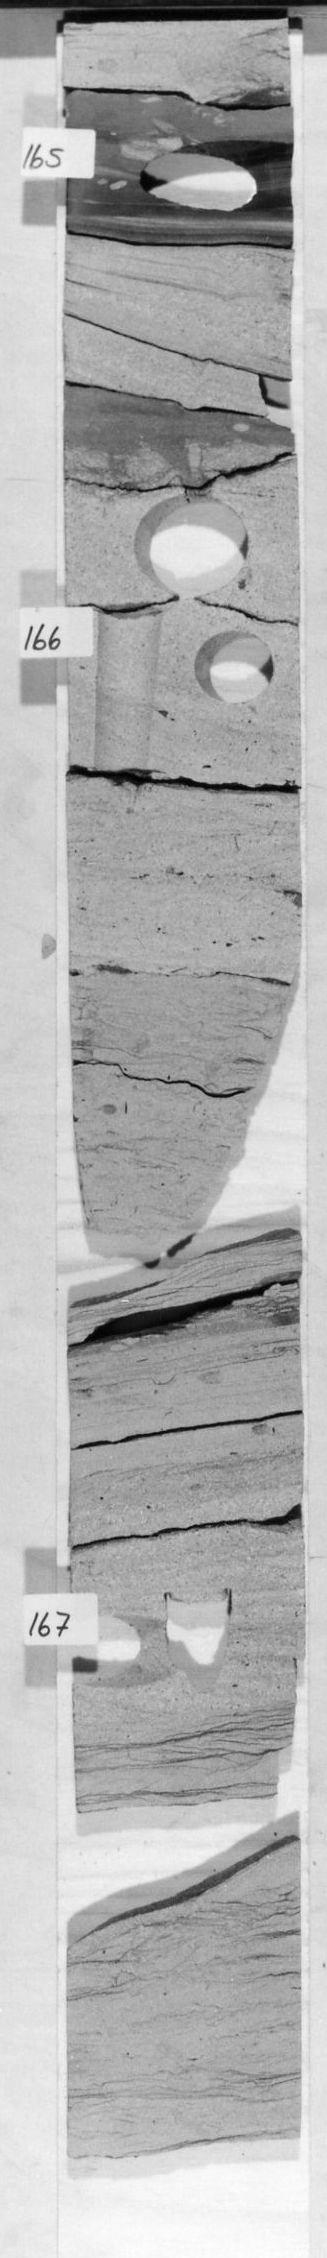hplug: (131, 134, 292, 215), (189, 625, 279, 706), (73, 1607, 158, 1691)
scal: (127, 487, 262, 601)
vplug: (85, 602, 164, 782), (158, 1583, 242, 1696)
